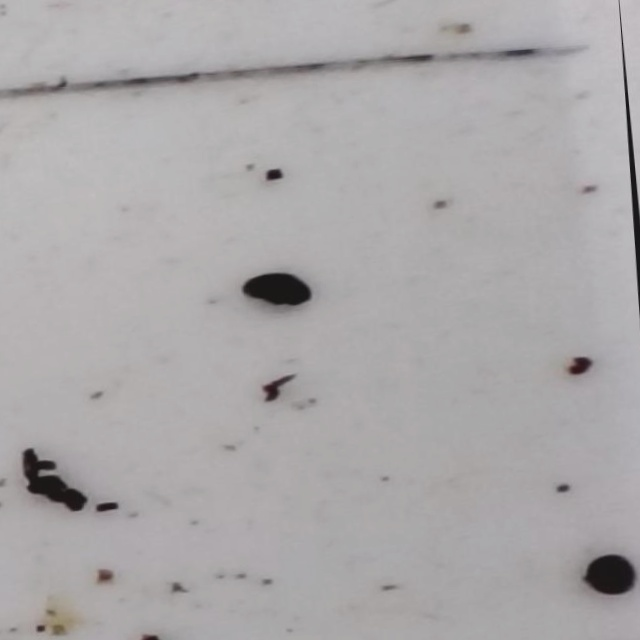varroa: (239, 266, 316, 313)
